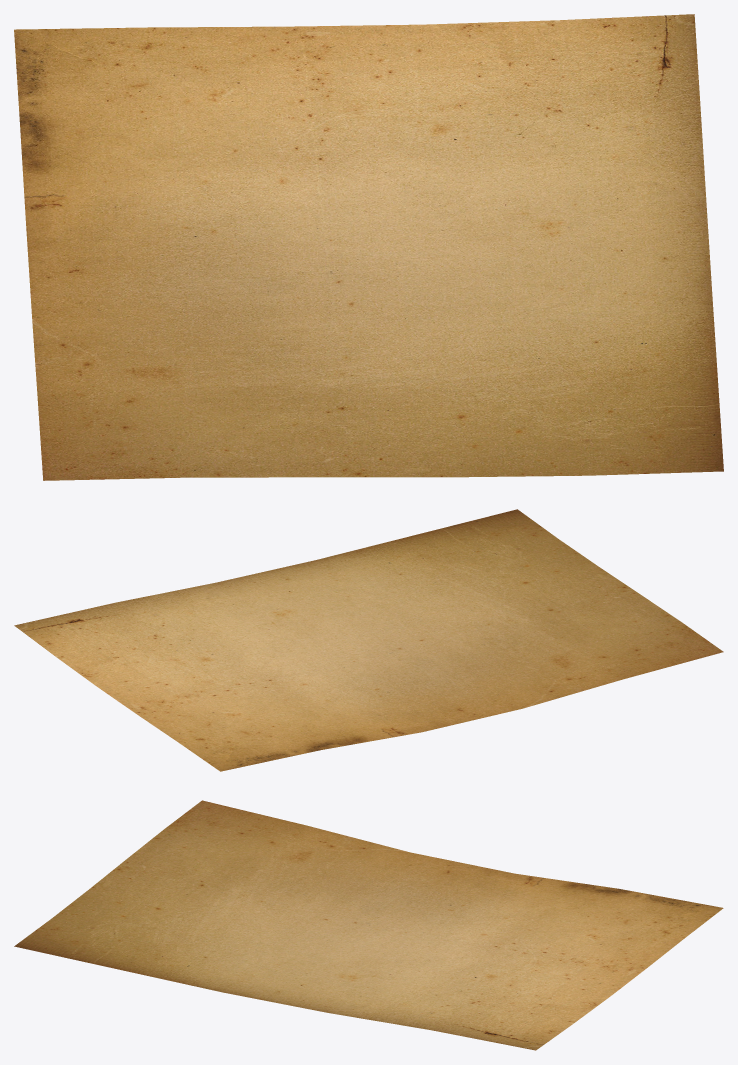
Rendered from todolist.fbx.
3 renders of one model, top to bottom at view 1: azimuth 30°, elevation 25°; view 2: azimuth 150°, elevation 25°; view 3: azimuth 270°, elevation 25°, orthographic. The views are drawn at different scales.
Visible parts, largest first — view 1: todolist; view 2: todolist; view 3: todolist.
Part boxes in pixels (left/top/right/bottom): todolist: left=14, top=14, right=723, bottom=480; todolist: left=14, top=509, right=723, bottom=771; todolist: left=14, top=800, right=723, bottom=1050.
Size of the model in its own units: 0.2788 by 0.00985 by 0.3145.
